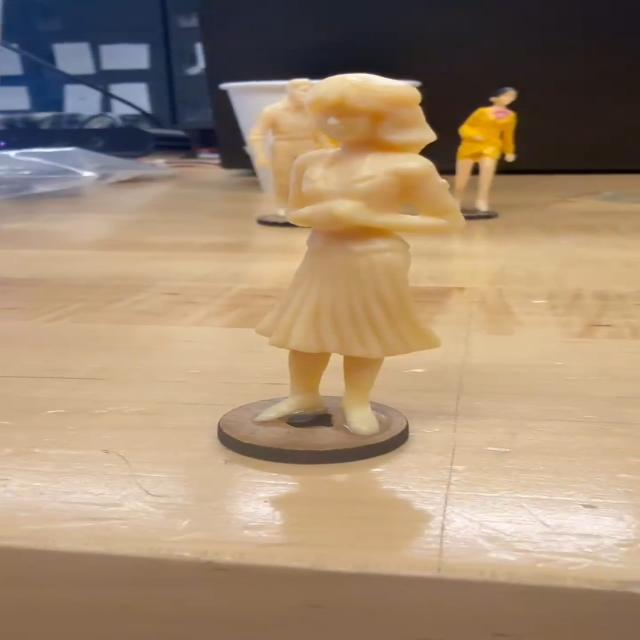Unauthorized: (229, 58, 475, 434)
